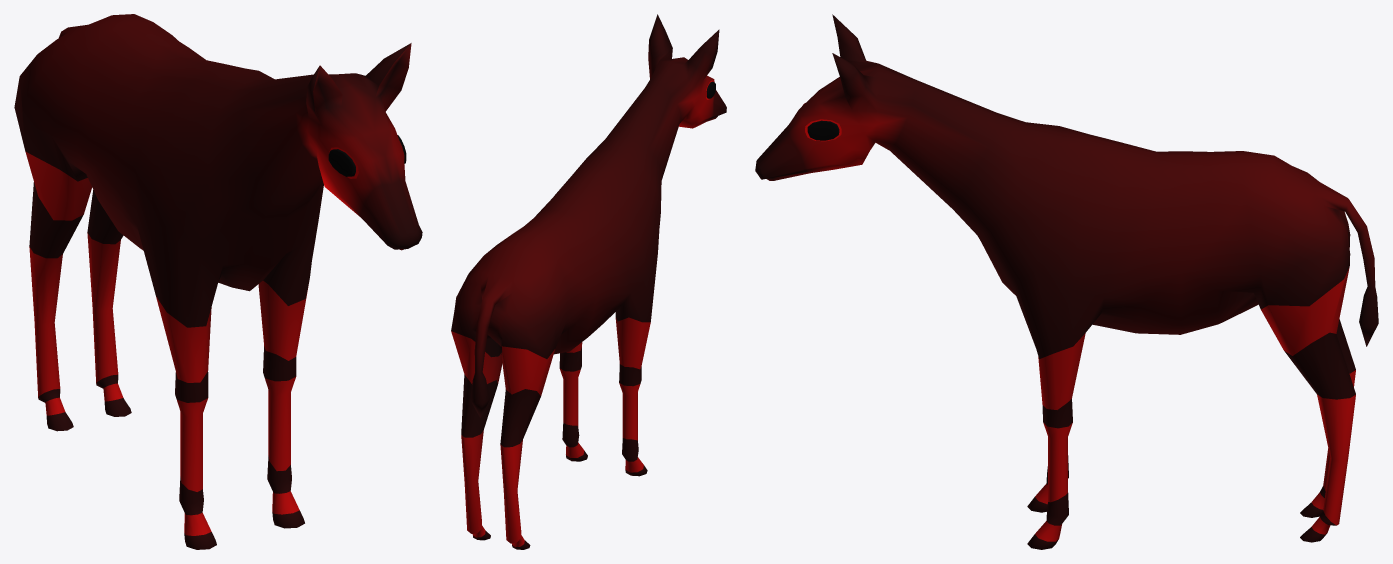
File: Animals_Okapi.fbx
The picture shows the model from 3 angles, left to right: view 1: azimuth 30°, elevation 25°; view 2: azimuth 150°, elevation 25°; view 3: azimuth 270°, elevation 25°; orthographic projection. The views are drawn at different scales.
Visible parts, largest first — view 1: base; view 2: base; view 3: base.
Part boxes in pixels (box(x1,y1,x2,y2)): base: box(14, 14, 422, 549); base: box(451, 14, 726, 549); base: box(755, 14, 1378, 549).
Bounding box in the file's own units: 45.66 × 159 × 183.
